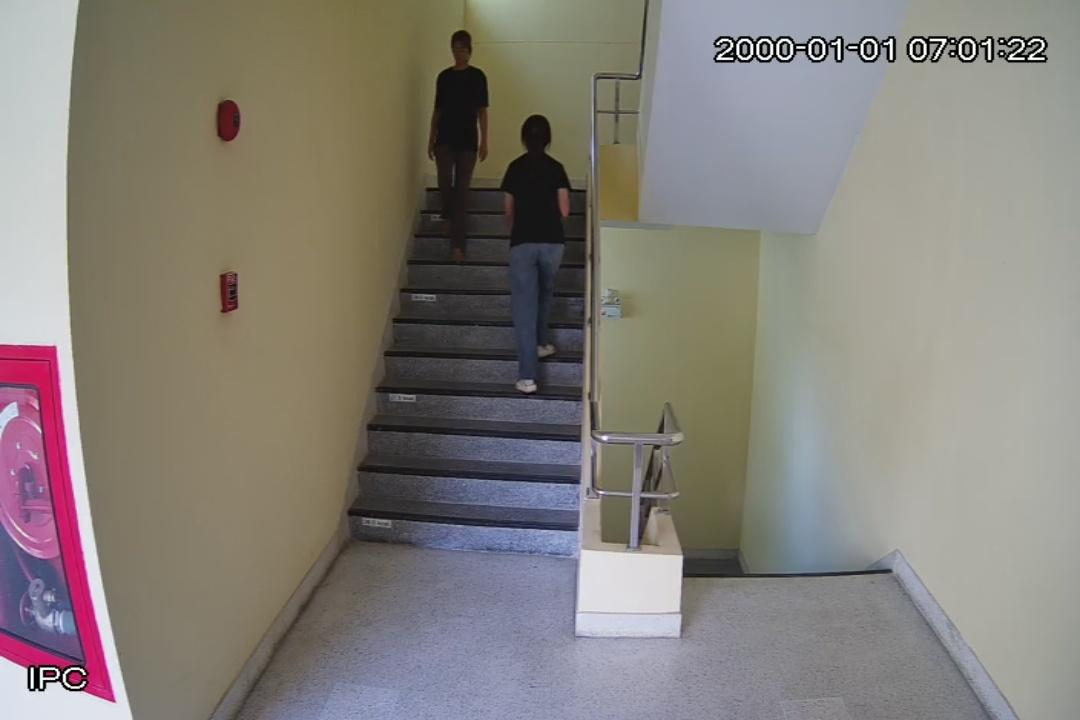normal: (500, 115, 572, 392), (429, 31, 487, 260)
